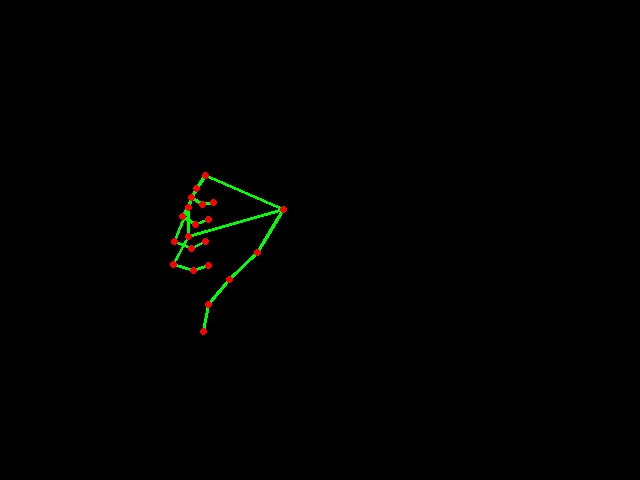slow: (165, 163, 295, 344)
